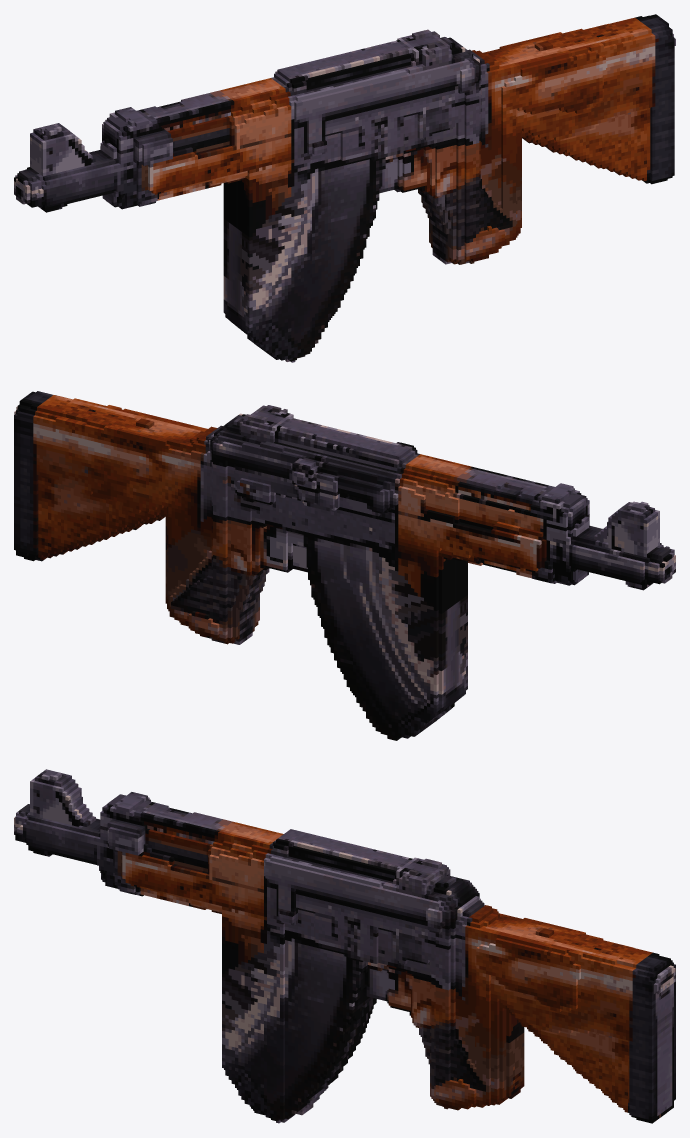
File: akm_voxel_solid.obj
3 views of the same model, one above another, from view 1: azimuth 30°, elevation 25°; view 2: azimuth 150°, elevation 25°; view 3: azimuth 330°, elevation 25° (orthographic).
Size of the model in its own units: 1 by 0.425 by 0.115.
